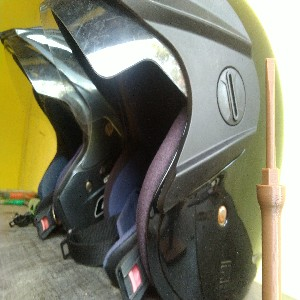obeng: (256, 57, 286, 300)
